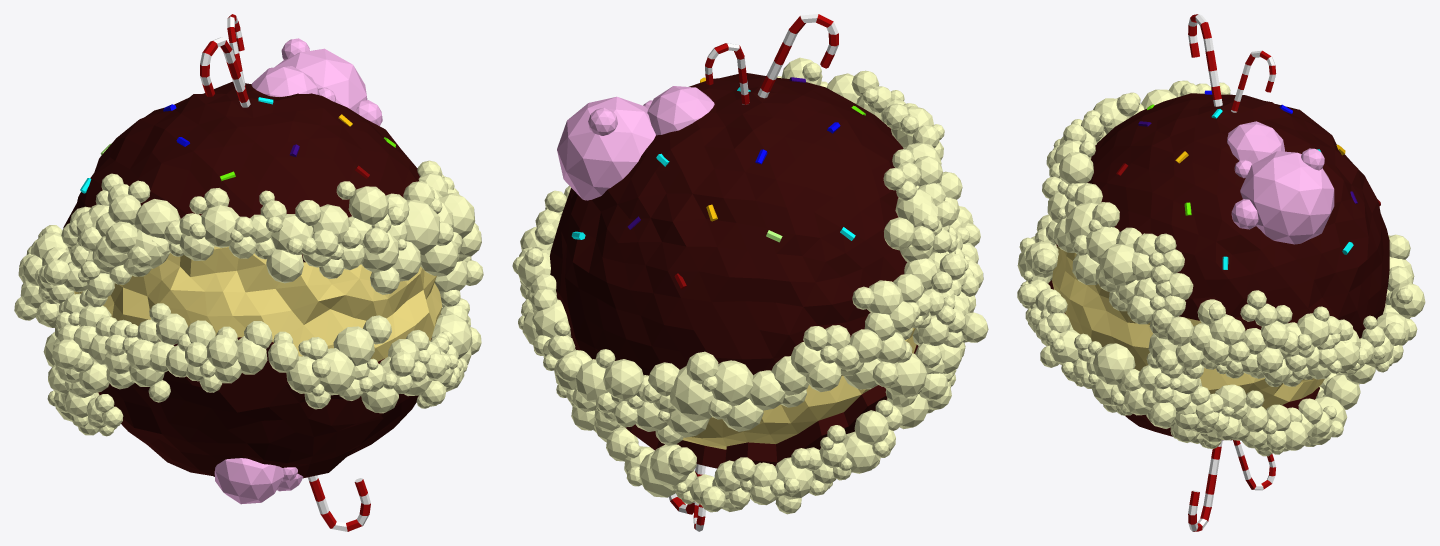
The model's file is candy_planet.glb.
3 views of the same model, side by side, from view 1: azimuth 30°, elevation 25°; view 2: azimuth 150°, elevation 25°; view 3: azimuth 270°, elevation 25° (orthographic). The views are drawn at different scales.
Parts seen in each view (by area): view 1: CandyPlanet; view 2: CandyPlanet; view 3: CandyPlanet.
Boxes of the visible parts, x1,y1,x2,y2 form: CandyPlanet: (14, 14, 483, 531); CandyPlanet: (512, 14, 988, 531); CandyPlanet: (1017, 14, 1425, 531).
Size of the model in its own units: 2.49 by 2.97 by 2.39.
3 materials, 1 textured.
